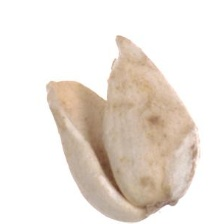L1: (46, 34, 119, 113), (140, 195, 178, 216)
L2: (47, 35, 200, 222)
